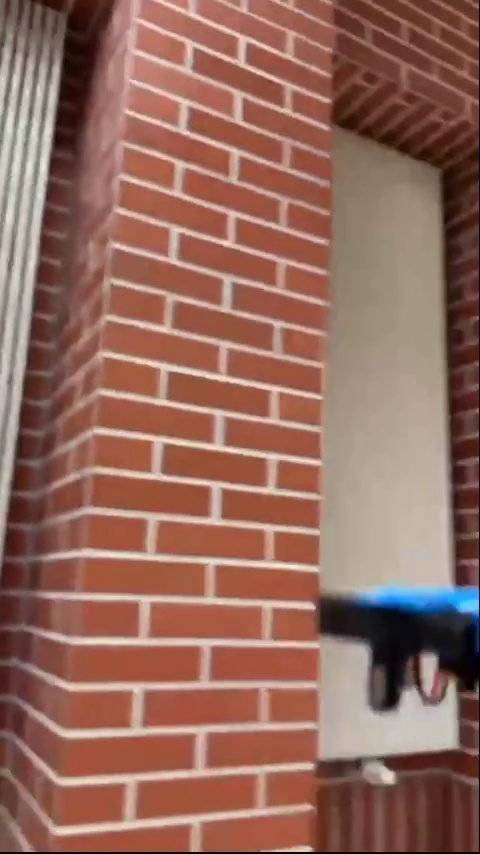drone: (315, 587, 480, 710)
